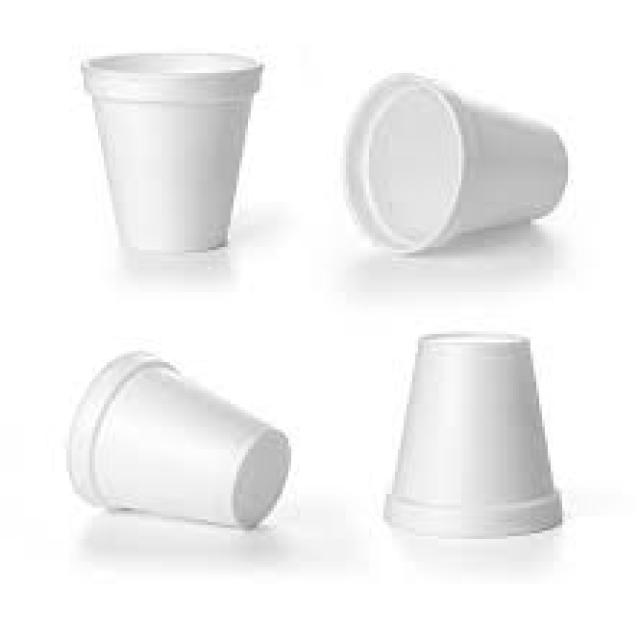styrofoam: (345, 74, 567, 252), (71, 354, 285, 527), (385, 334, 562, 537), (85, 54, 262, 252)
